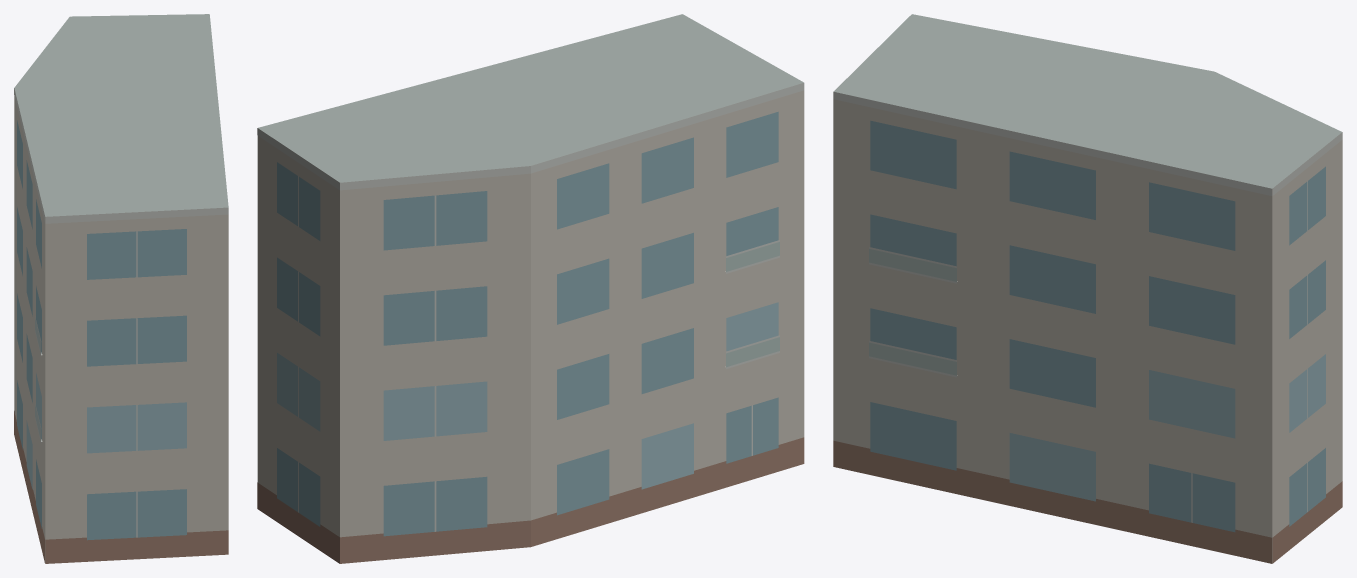
File: survey-upis-32646946.glb
3 renders of one model, left to right at view 1: azimuth 30°, elevation 25°; view 2: azimuth 150°, elevation 25°; view 3: azimuth 270°, elevation 25°, orthographic. The views are drawn at different scales.
Visible parts, largest first — view 1: survey-upis-32646946.tmp; view 2: survey-upis-32646946.tmp; view 3: survey-upis-32646946.tmp.
Part boxes in pixels (x1,y1,x2,y2): survey-upis-32646946.tmp: [14, 14, 228, 563]; survey-upis-32646946.tmp: [257, 14, 804, 563]; survey-upis-32646946.tmp: [833, 14, 1342, 563].
Size of the model in its own units: 12.2 by 12.2 by 15.01.
